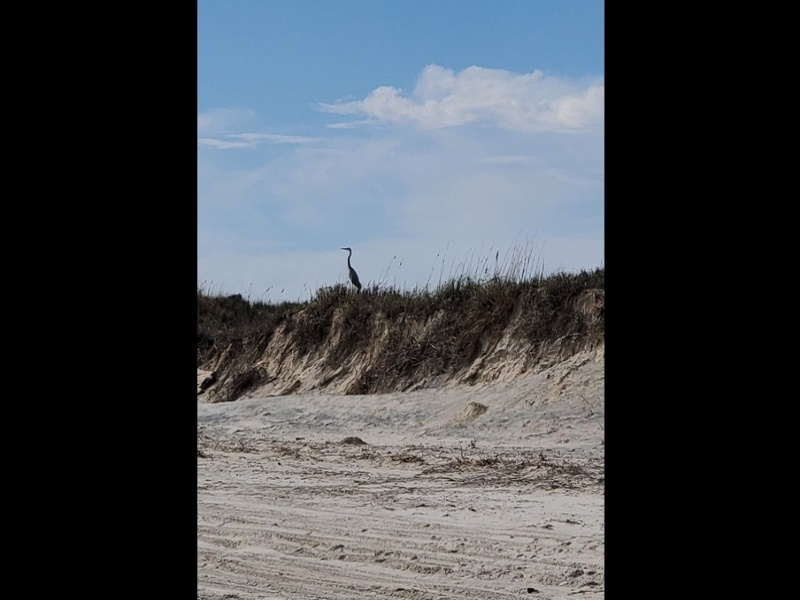heron: (340, 244, 363, 290)
